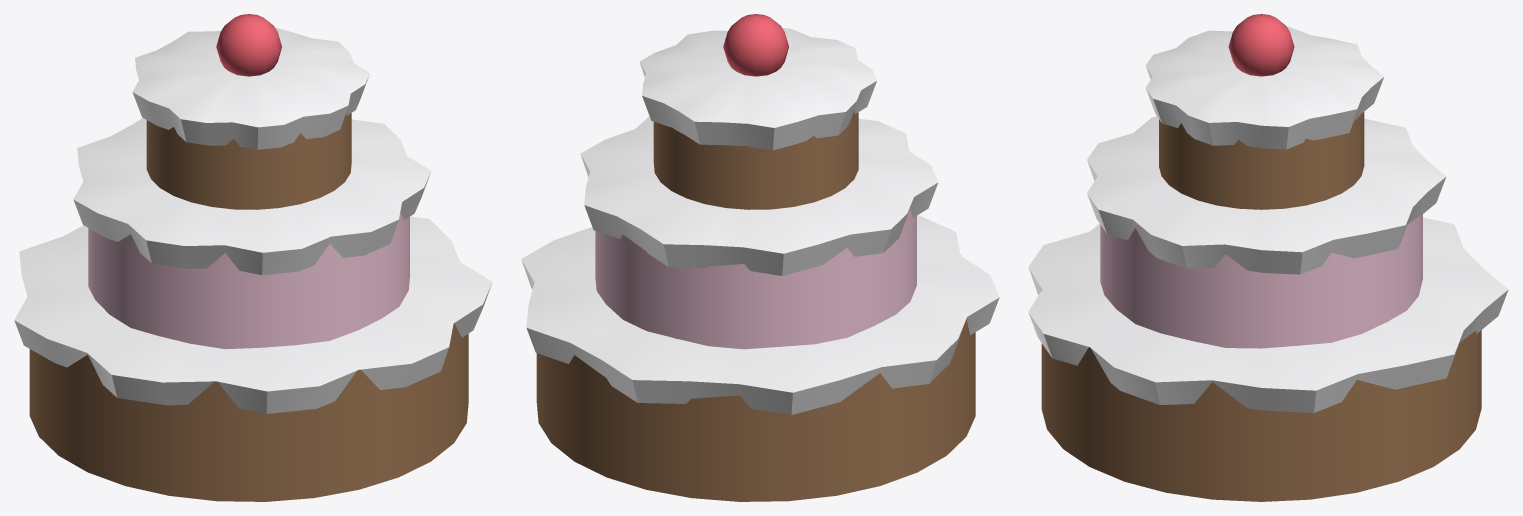
Rendered from GiantCake.fbx.
The picture shows the model from 3 angles, left to right: view 1: azimuth 30°, elevation 25°; view 2: azimuth 150°, elevation 25°; view 3: azimuth 270°, elevation 25°; orthographic projection.
Visible parts, largest first — view 1: GiantCake; view 2: GiantCake; view 3: GiantCake.
Boxes of the visible parts, x1=… form: GiantCake: x1=14, y1=14, x2=492, y2=501; GiantCake: x1=521, y1=14, x2=999, y2=501; GiantCake: x1=1028, y1=14, x2=1508, y2=501.
Bounding box in the file's own units: 6.54 × 5.9 × 6.55.
